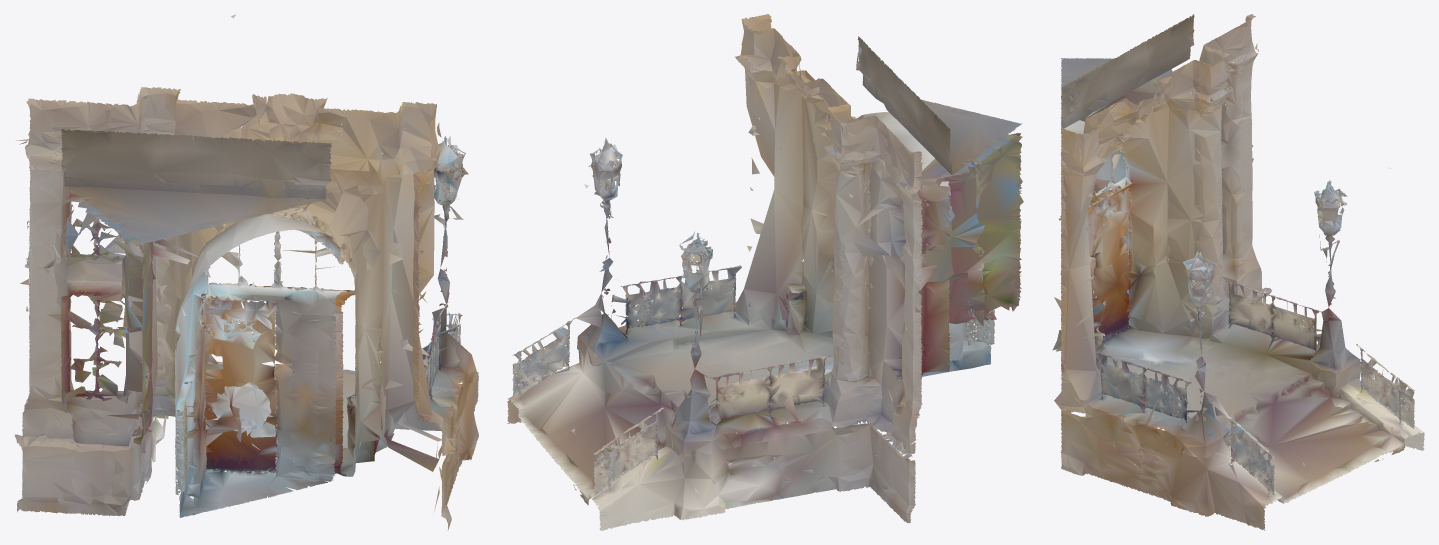
3 views of the same model, side by side, from view 1: azimuth 30°, elevation 25°; view 2: azimuth 150°, elevation 25°; view 3: azimuth 270°, elevation 25° (orthographic). The views are drawn at different scales.
Size of the model in its own units: 8.83 by 7.5 by 7.52.
